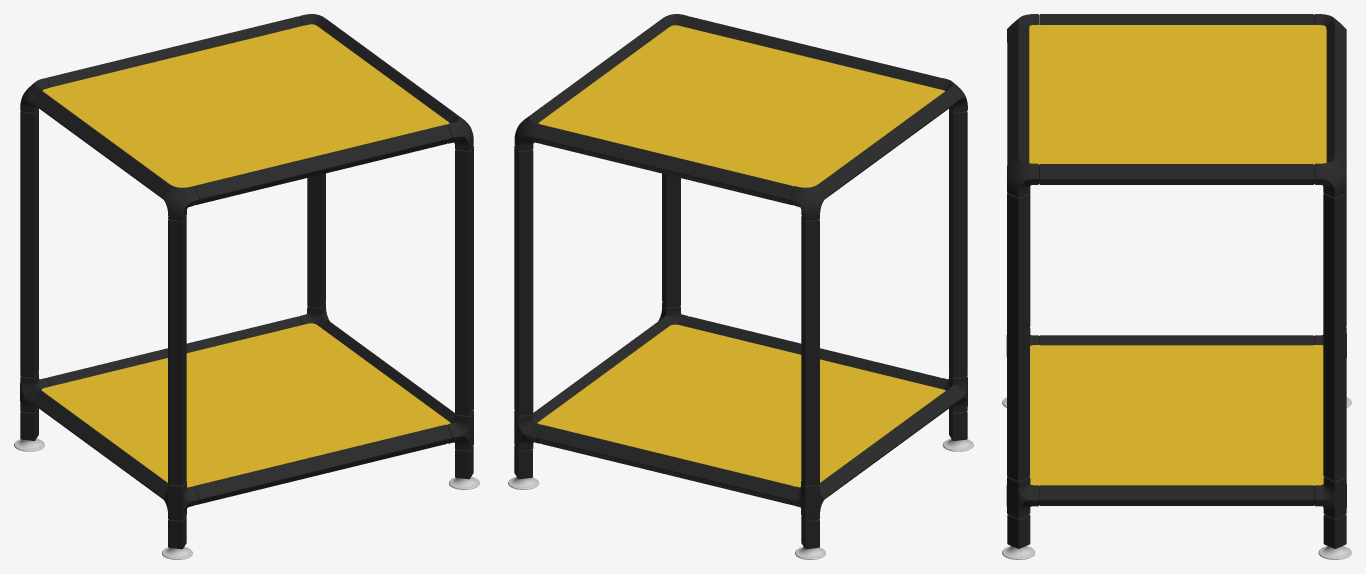
3 views of the same model, side by side, from view 1: azimuth 30°, elevation 25°; view 2: azimuth 150°, elevation 25°; view 3: azimuth 270°, elevation 25° (orthographic). The views are drawn at different scales.
Visible parts, largest first — view 1: 374x329x374; view 2: 374x329x374; view 3: 374x329x374.
Boxes of the visible parts, <box> form: 374x329x374: <box>14,14,479,559</box>; 374x329x374: <box>508,14,973,559</box>; 374x329x374: <box>1002,14,1351,559</box>.
Bounding box in the file's own units: 0.4639 × 0.5133 × 0.4182.
